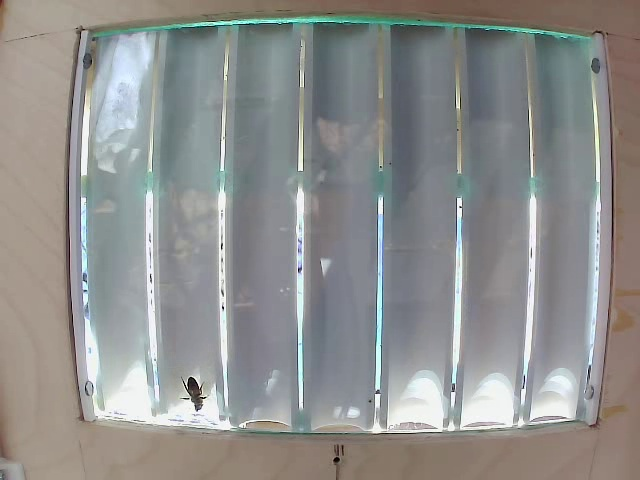bee: (171, 365, 219, 409)
